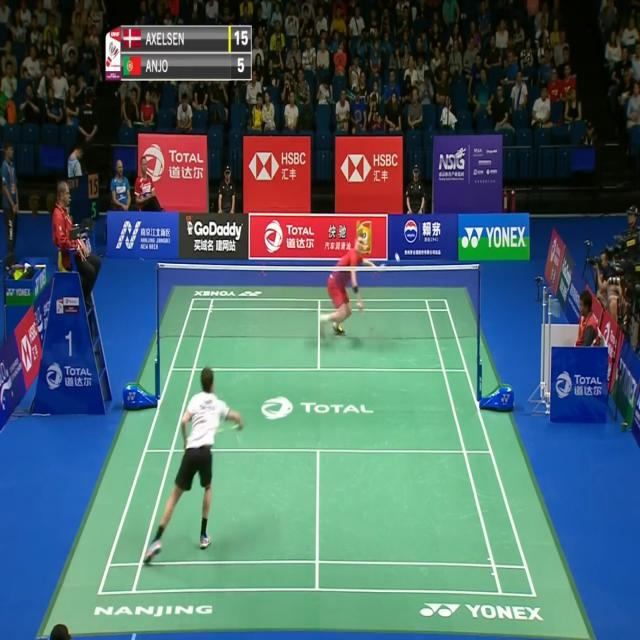Player1: (143, 363, 244, 565)
Player2: (317, 223, 383, 353)
